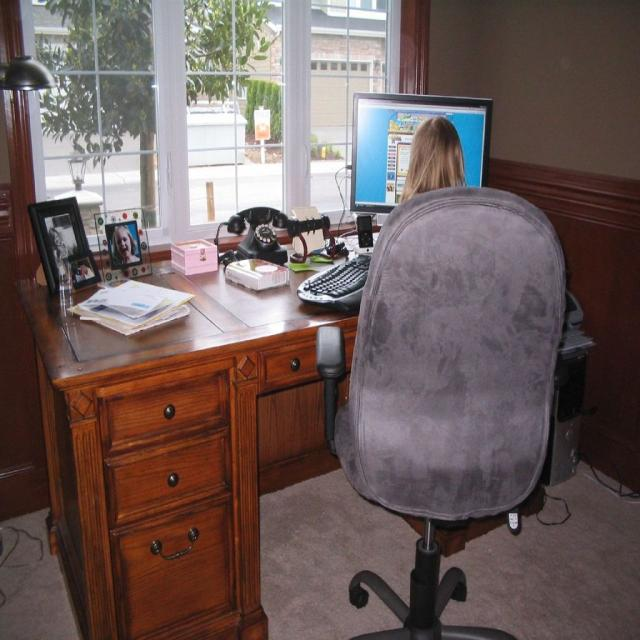chair: (317, 183, 566, 640)
desk: (22, 284, 538, 634)
keyboard: (296, 256, 372, 306)
tv: (352, 93, 492, 217)
